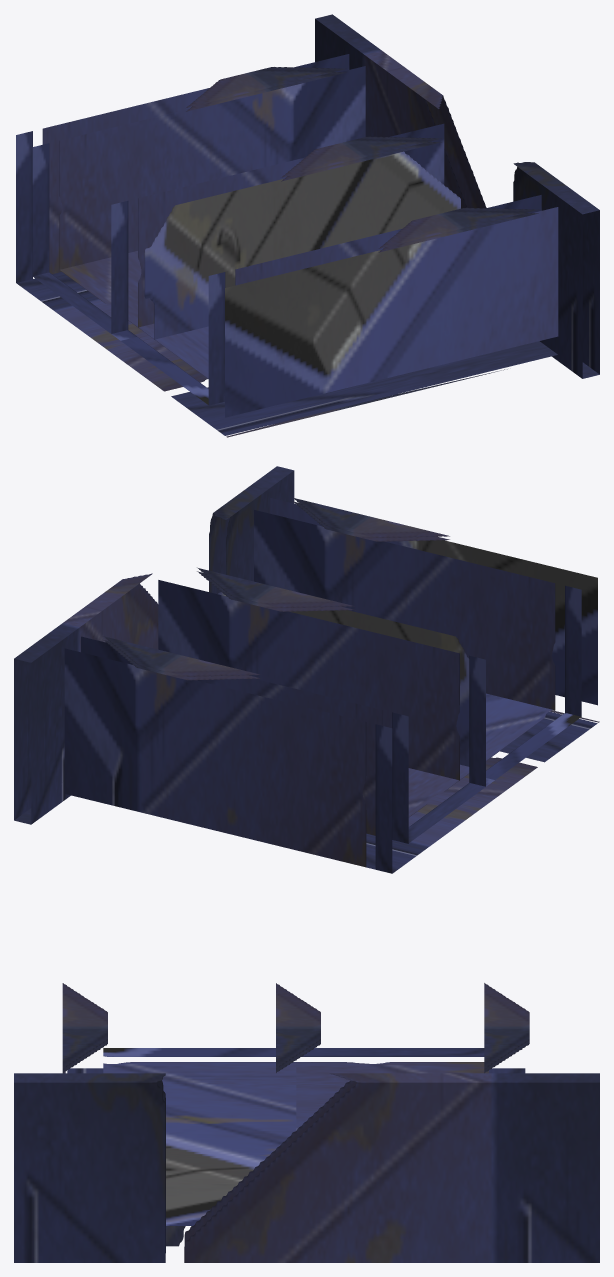
3 renders of one model, top to bottom at view 1: azimuth 30°, elevation 25°; view 2: azimuth 150°, elevation 25°; view 3: azimuth 270°, elevation 25°, orthographic. The views are drawn at different scales.
Size of the model in its own units: 0.98 by 0.4396 by 1.29.
